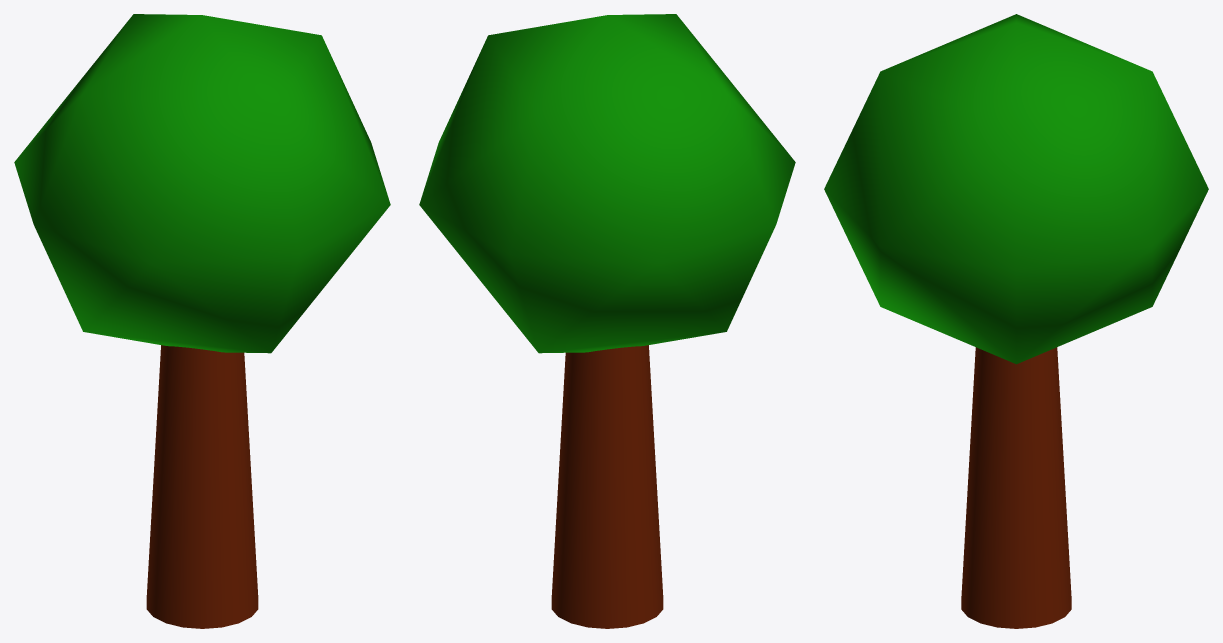
The model's file is Tree.FBX.
3 renders of one model, left to right at view 1: azimuth 30°, elevation 25°; view 2: azimuth 150°, elevation 25°; view 3: azimuth 270°, elevation 25°, orthographic.
Parts seen in each view (by area): view 1: GeoSphere001, Cylinder010; view 2: GeoSphere001, Cylinder010; view 3: GeoSphere001, Cylinder010.
Part boxes in pixels (<box>): GeoSphere001: <box>14,14,390,353</box>; Cylinder010: <box>146,345,258,628</box>; GeoSphere001: <box>419,14,795,353</box>; Cylinder010: <box>551,345,663,628</box>; GeoSphere001: <box>824,14,1208,364</box>; Cylinder010: <box>961,347,1071,628</box>.
Bounding box in the file's own units: 3484 × 5817 × 3484.
